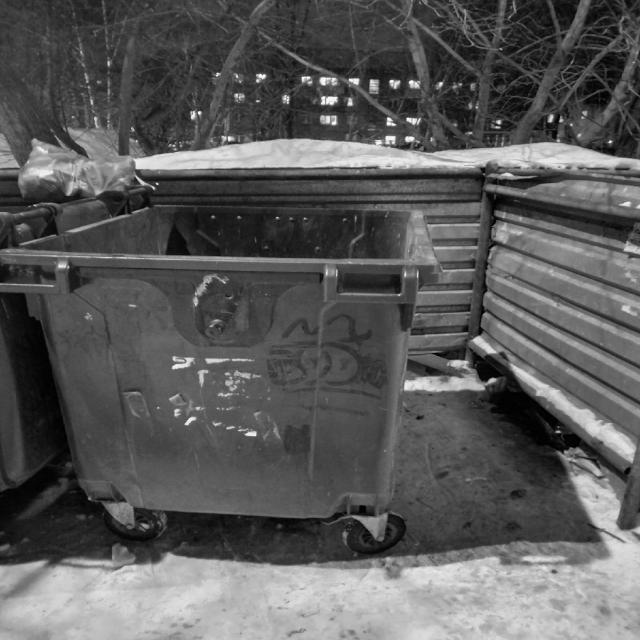bin: (17, 178, 473, 578)
